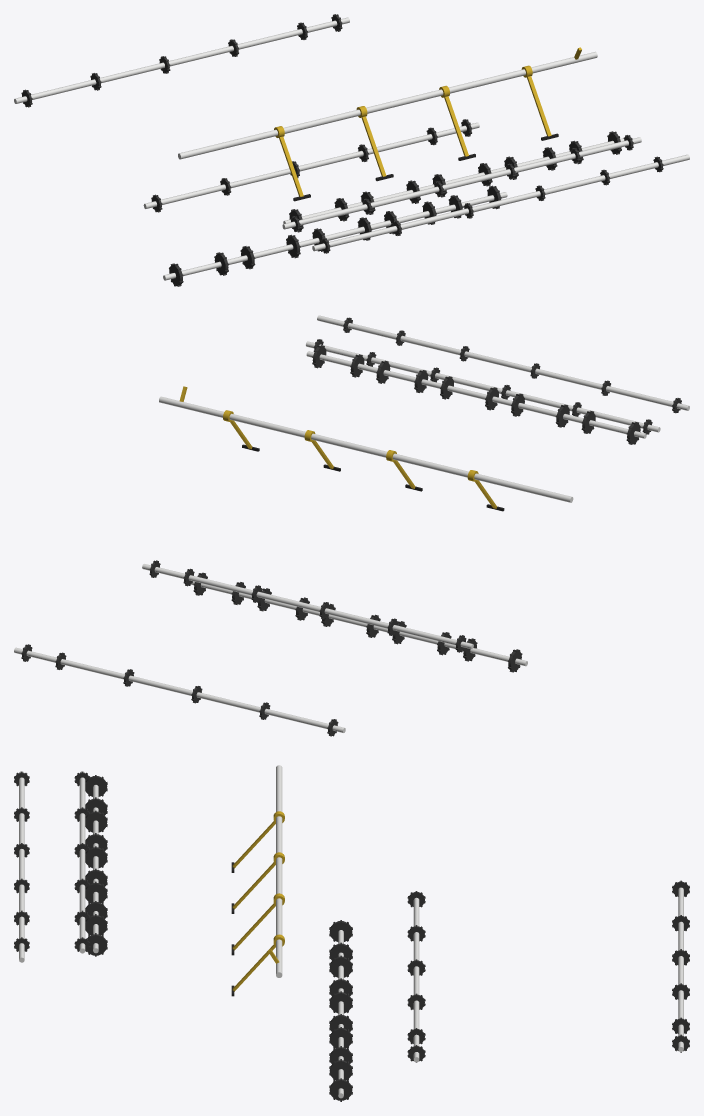
File: board_line_parts.glb
The picture shows the model from 3 angles, top to bottom: view 1: azimuth 30°, elevation 25°; view 2: azimuth 150°, elevation 25°; view 3: azimuth 270°, elevation 25°; orthographic projection. The views are drawn at different scales.
Visible parts, largest first — view 1: BL_RejectMesh, BL_UnsFootMesh, BL_TakeHeadMesh, BL_TakeTailMesh, BL_FeedTailMesh, BL_FeedHeadMesh, BL_UnsHeadMesh; view 2: BL_RejectMesh, BL_UnsHeadMesh, BL_UnsFootMesh, BL_TakeHeadMesh, BL_FeedHeadMesh, BL_FeedTailMesh, BL_TakeTailMesh; view 3: BL_UnsFootMesh, BL_UnsHeadMesh, BL_RejectMesh, BL_FeedHeadMesh, BL_FeedTailMesh, BL_TakeHeadMesh, BL_TakeTailMesh.
Part boxes in pixels (x1=…): BL_RejectMesh: x1=178, y1=47, x2=597, y2=201; BL_UnsFootMesh: x1=163, y1=185, x2=507, y2=286; BL_TakeHeadMesh: x1=312, y1=154, x2=689, y2=253; BL_TakeTailMesh: x1=282, y1=135, x2=641, y2=231; BL_FeedTailMesh: x1=14, y1=14, x2=349, y2=107; BL_FeedHeadMesh: x1=143, y1=119, x2=479, y2=212; BL_UnsHeadMesh: x1=283, y1=131, x2=624, y2=232; BL_RejectMesh: x1=159, y1=386, x2=573, y2=511; BL_UnsHeadMesh: x1=306, y1=345, x2=646, y2=444; BL_UnsFootMesh: x1=191, y1=572, x2=527, y2=672; BL_TakeHeadMesh: x1=317, y1=315, x2=689, y2=413; BL_FeedHeadMesh: x1=142, y1=560, x2=473, y2=652; BL_FeedTailMesh: x1=14, y1=644, x2=345, y2=736; BL_TakeTailMesh: x1=306, y1=339, x2=660, y2=434; BL_UnsFootMesh: x1=329, y1=920, x2=352, y2=1101; BL_UnsHeadMesh: x1=85, y1=775, x2=107, y2=956; BL_RejectMesh: x1=231, y1=765, x2=284, y2=996; BL_FeedHeadMesh: x1=407, y1=891, x2=425, y2=1062; BL_FeedTailMesh: x1=672, y1=880, x2=689, y2=1052; BL_TakeHeadMesh: x1=14, y1=771, x2=29, y2=962; BL_TakeTailMesh: x1=74, y1=771, x2=90, y2=953.
Size of the model in its own units: 6.05 by 2.41 by 8.34.
